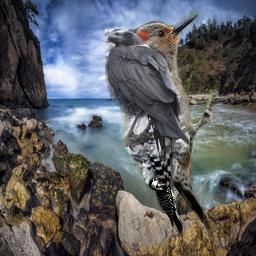Crow: (105, 29, 190, 162)
Woodpecker: (117, 7, 218, 250), (148, 173, 183, 237)
